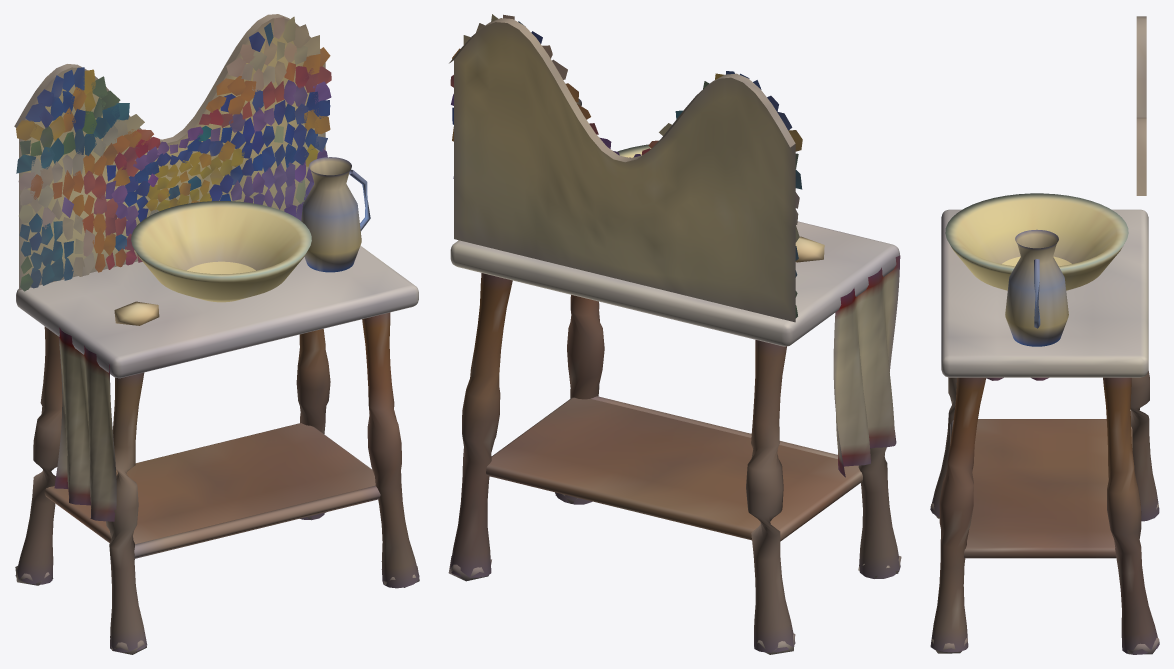
Rendered from lavabo.glb.
3 views of the same model, side by side, from view 1: azimuth 30°, elevation 25°; view 2: azimuth 150°, elevation 25°; view 3: azimuth 270°, elevation 25° (orthographic). The views are drawn at different scales.
Parts seen in each view (by area): view 1: lavabo_LOD0; view 2: lavabo_LOD0; view 3: lavabo_LOD0.
Boxes of the visible parts, x1,y1,x2,y2 form: lavabo_LOD0: (14,14,419,654); lavabo_LOD0: (448,14,901,654); lavabo_LOD0: (930,16,1159,654).
Size of what is drawn, in the model's own units: 0.9395 by 1.43 by 0.5753.
